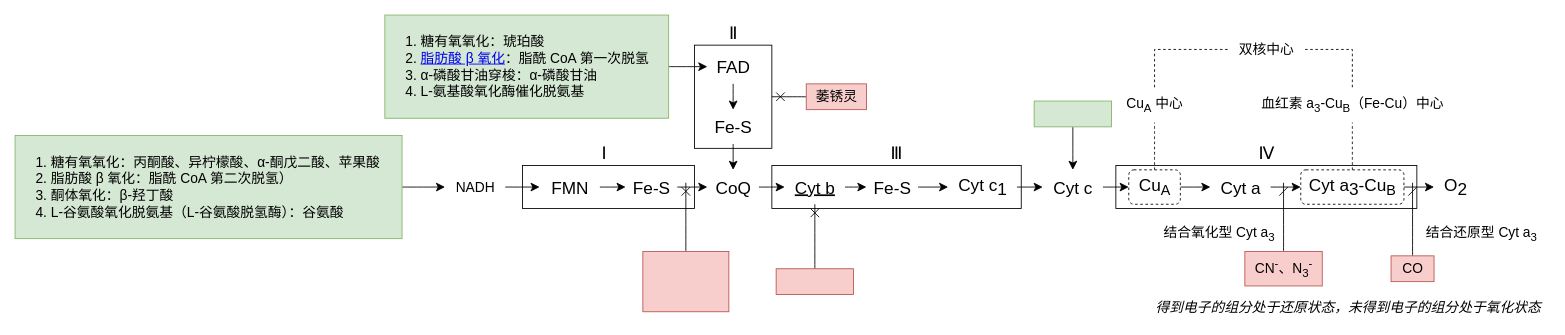
The diagram is 1565 pixels wide and 335 high, and some of its shapes have lost their labels. Here are the shapes that lost their labels. From the top down, the centre of each, then its label:
the point at 1072,113: 抗坏血酸
the point at 685,281: 鱼藤酮 粉蝶霉素 A 异戊巴比妥
the point at 814,281: 抗霉素 A
